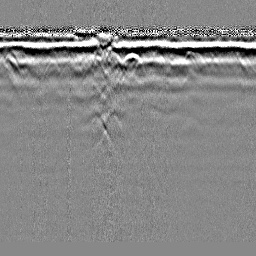cavity: (121, 50, 143, 67)
